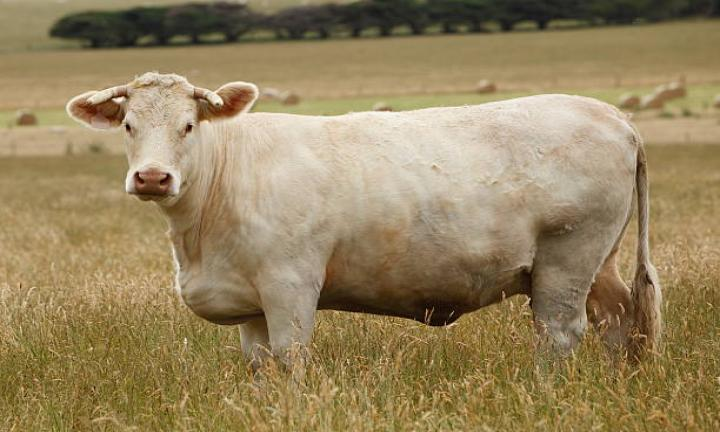Charolais: (67, 73, 660, 361)
